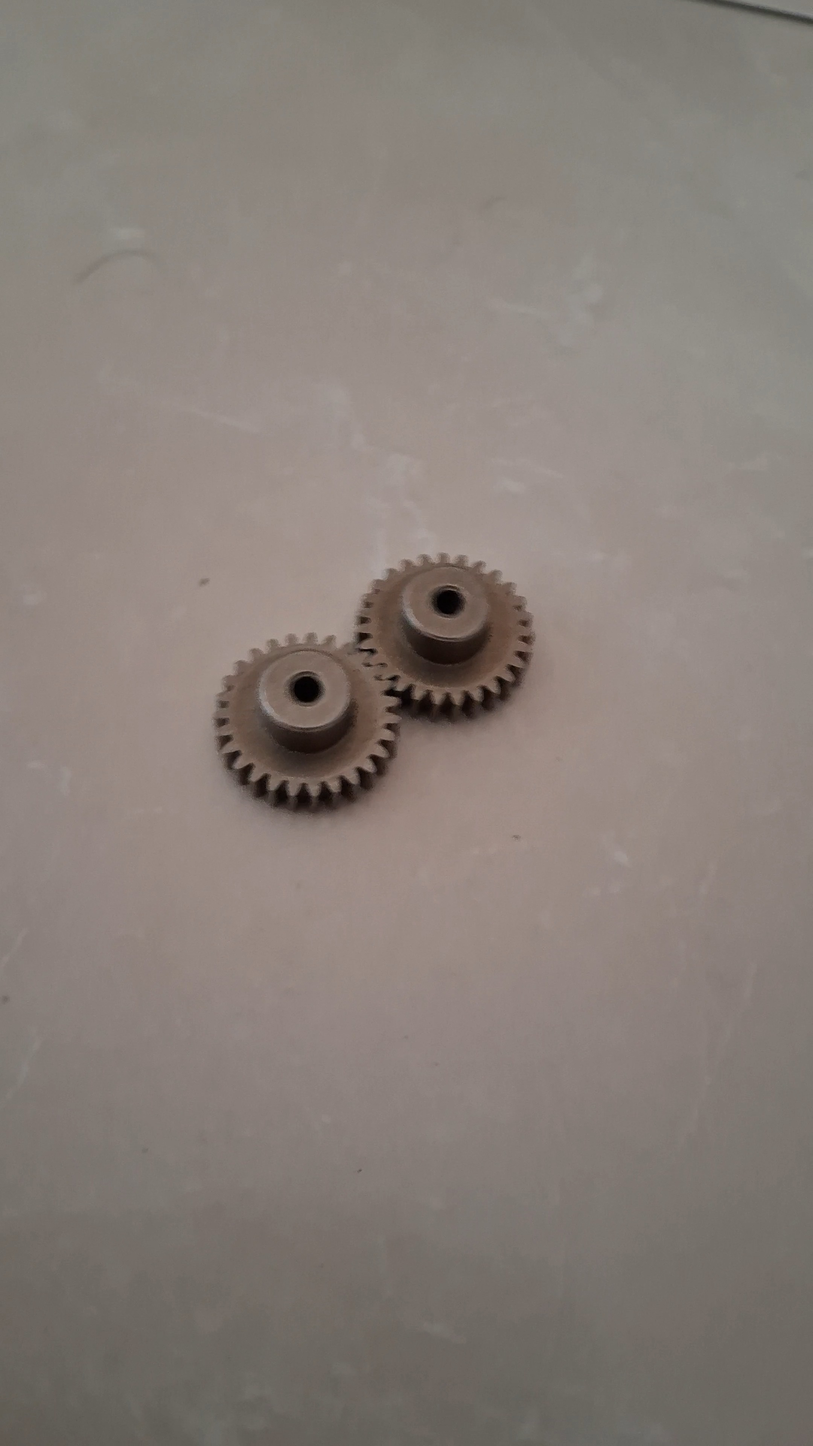spur gear: (220, 637, 404, 811), (362, 558, 540, 720)
